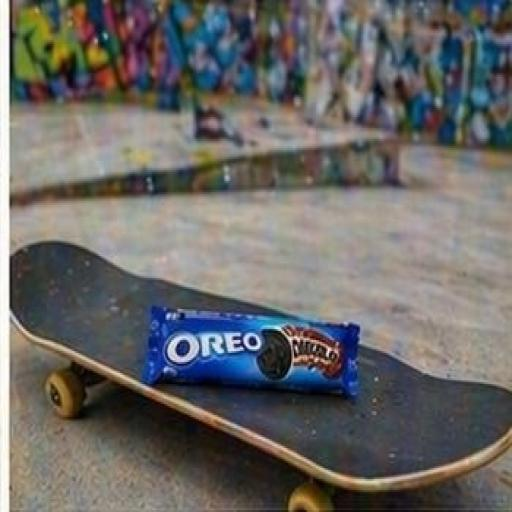oreo: (129, 269, 428, 459)
